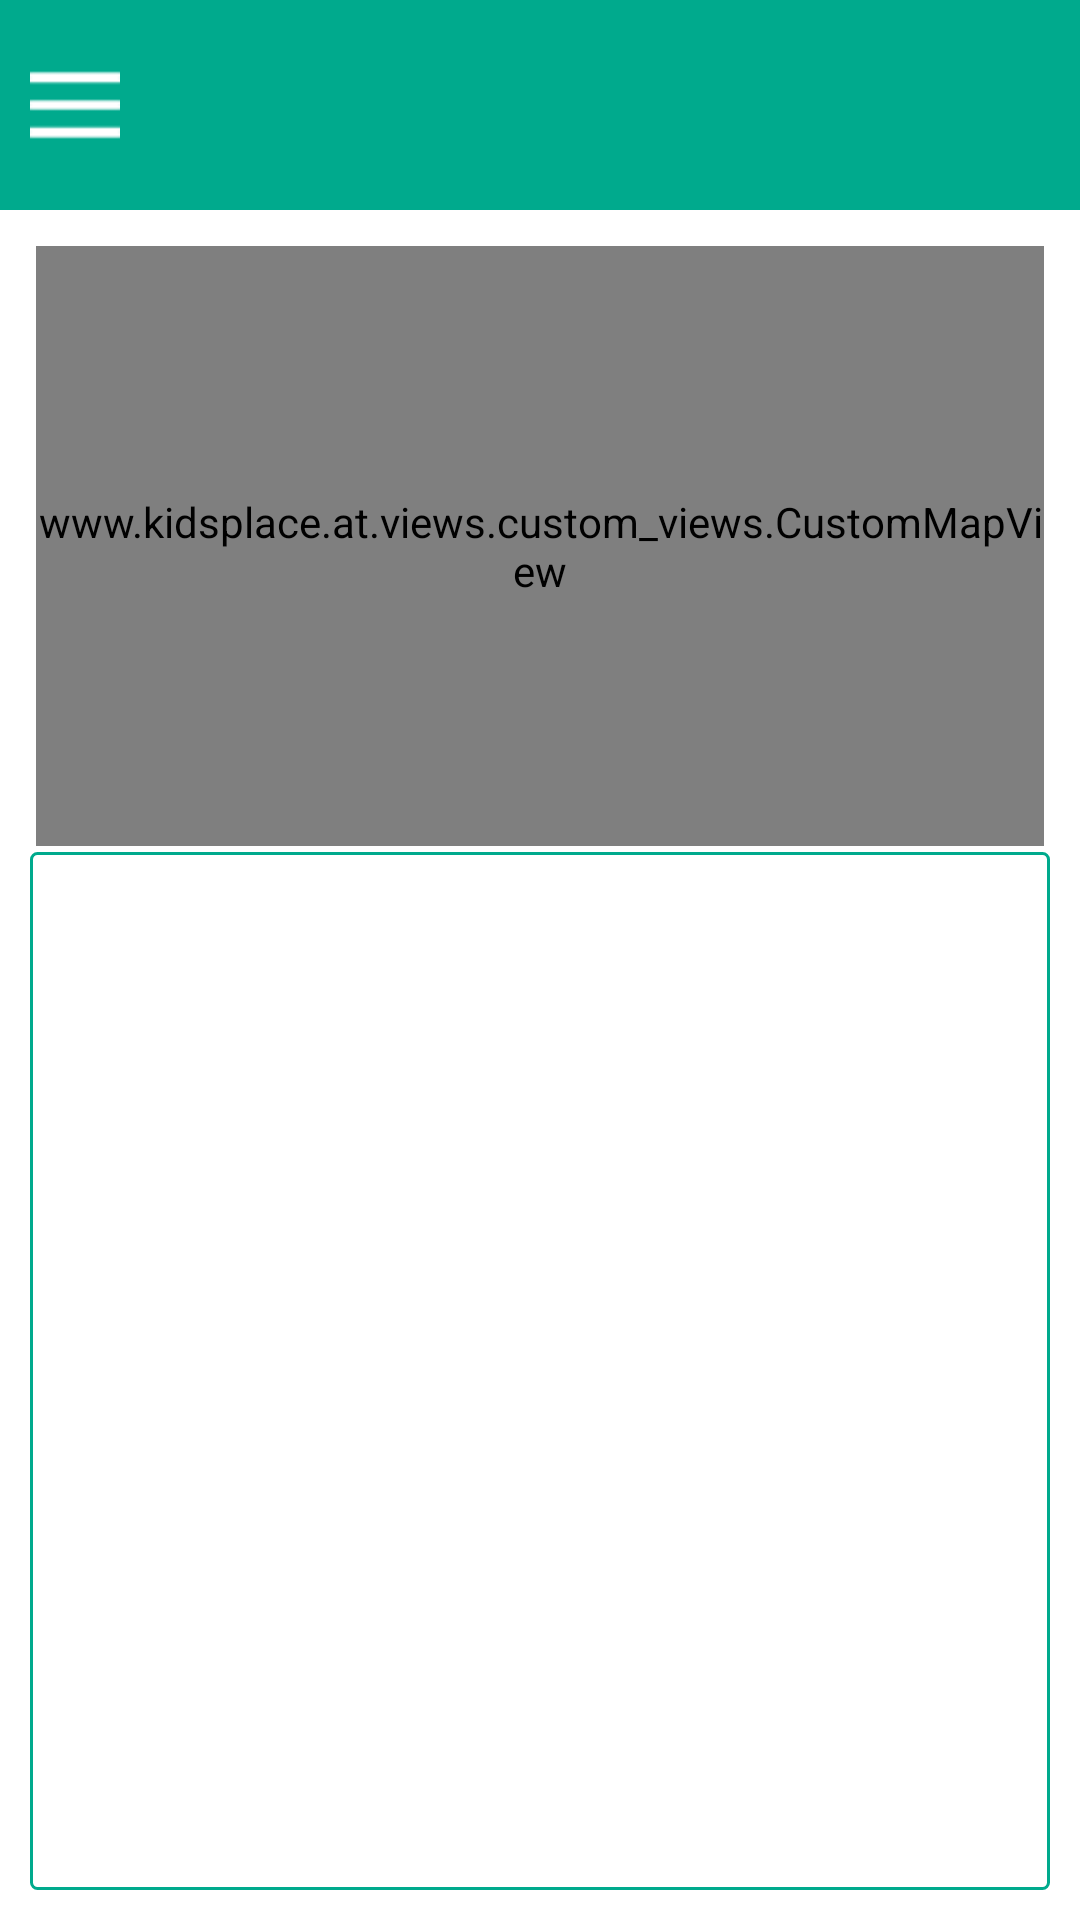

Icon click points for this 1080w x 1920h phone screenshot, format (x=x, y=y):
menu: (x=75, y=105)
